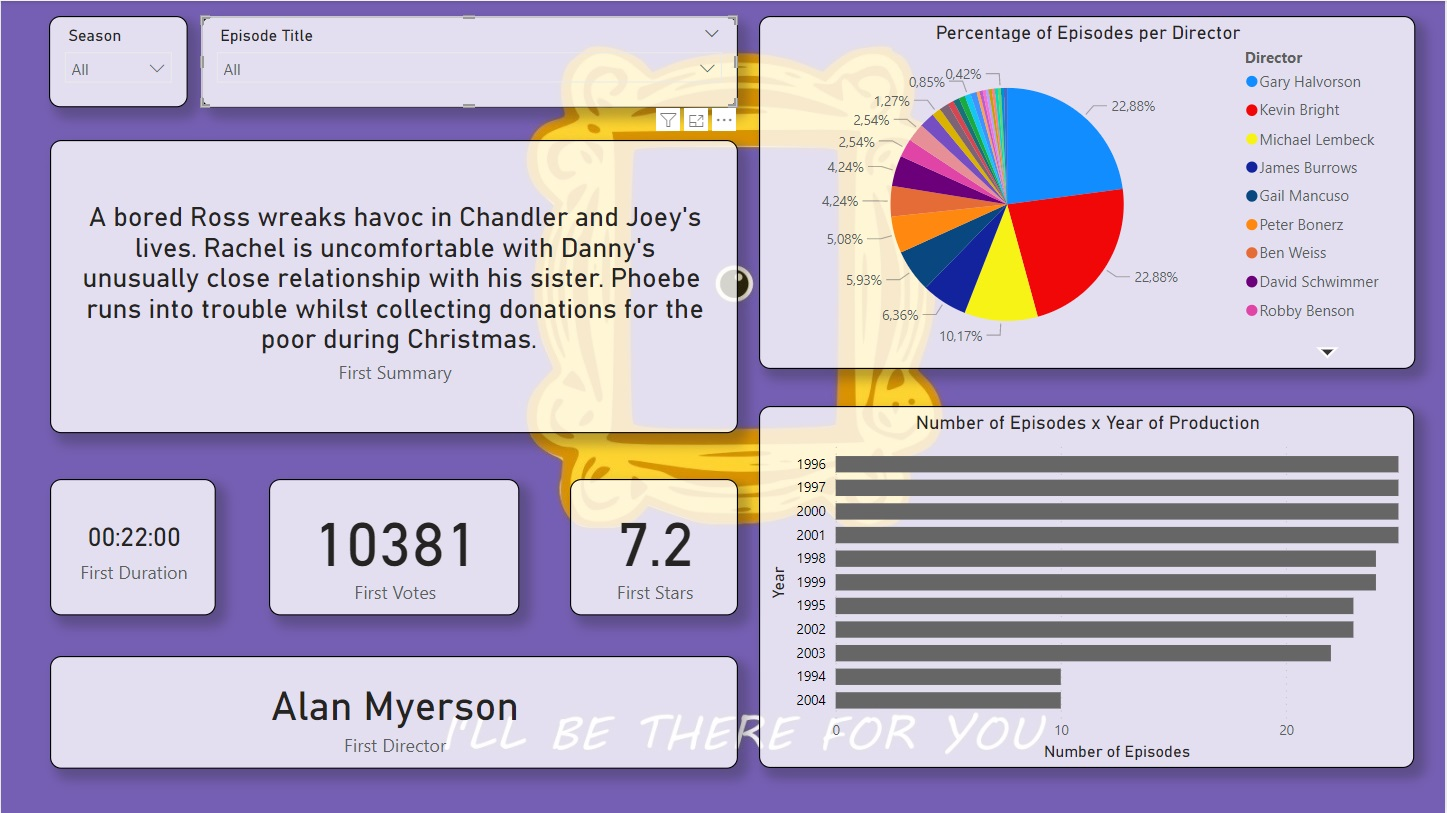

What the dashboard file says about the page in this screenshot:
{"tool":"powerbi","page":{"name":"Page 1","canvas":[1280,720],"ordinal":0},"visuals":[{"type":"pieChart","title":"Percentage of Episodes per Director","fields":{"Category":["df.Director"],"Y":["df.Episode_Number"]},"box":[672.1,13.6,581.6,313.2],"z":0},{"type":"barChart","title":"Number of Episodes x Year of Production","fields":{"Category":["df.Year_of_Prod"],"Y":["df.Episode_Number"]},"box":[672.5,358.8,581.2,321.2],"z":1000},{"type":"slicer","fields":{"Values":["df.Season"]},"box":[42.8,13.6,122.6,80.7],"z":2000},{"type":"slicer","fields":{"Values":["df.Episode_Title"]},"box":[177,13.6,475.6,80.7],"z":3000},{"type":"card","fields":{"Values":["df.Summary"]},"box":[43.1,123.6,609.7,259.7],"z":4000},{"type":"card","fields":{"Values":["df.Duration"]},"box":[43.1,423.6,147.2,120.8],"z":5000},{"type":"card","fields":{"Values":["df.Stars"]},"box":[504.2,423.6,148.6,120.8],"z":6000},{"type":"card","fields":{"Values":["df.Votes"]},"box":[237.5,423.6,222.2,120.8],"z":7000},{"type":"card","fields":{"Values":["df.Director"]},"box":[43.1,580.6,609.7,100],"z":8000}]}

Visuals, with their boxes in screenshot pixels (x1, y1, x2, y2), scaled from the page's 1280x720 canvas onto the 1447x813 screenshot:
"Percentage of Episodes per Director" pieChart: locate(760, 15, 1417, 369)
"Number of Episodes x Year of Production" barChart: locate(760, 405, 1417, 768)
slicer - df.Season: locate(48, 15, 187, 106)
slicer - df.Episode_Title: locate(200, 15, 738, 106)
card - df.Summary: locate(49, 140, 738, 433)
card - df.Duration: locate(49, 478, 215, 615)
card - df.Stars: locate(570, 478, 738, 615)
card - df.Votes: locate(268, 478, 520, 615)
card - df.Director: locate(49, 656, 738, 769)
